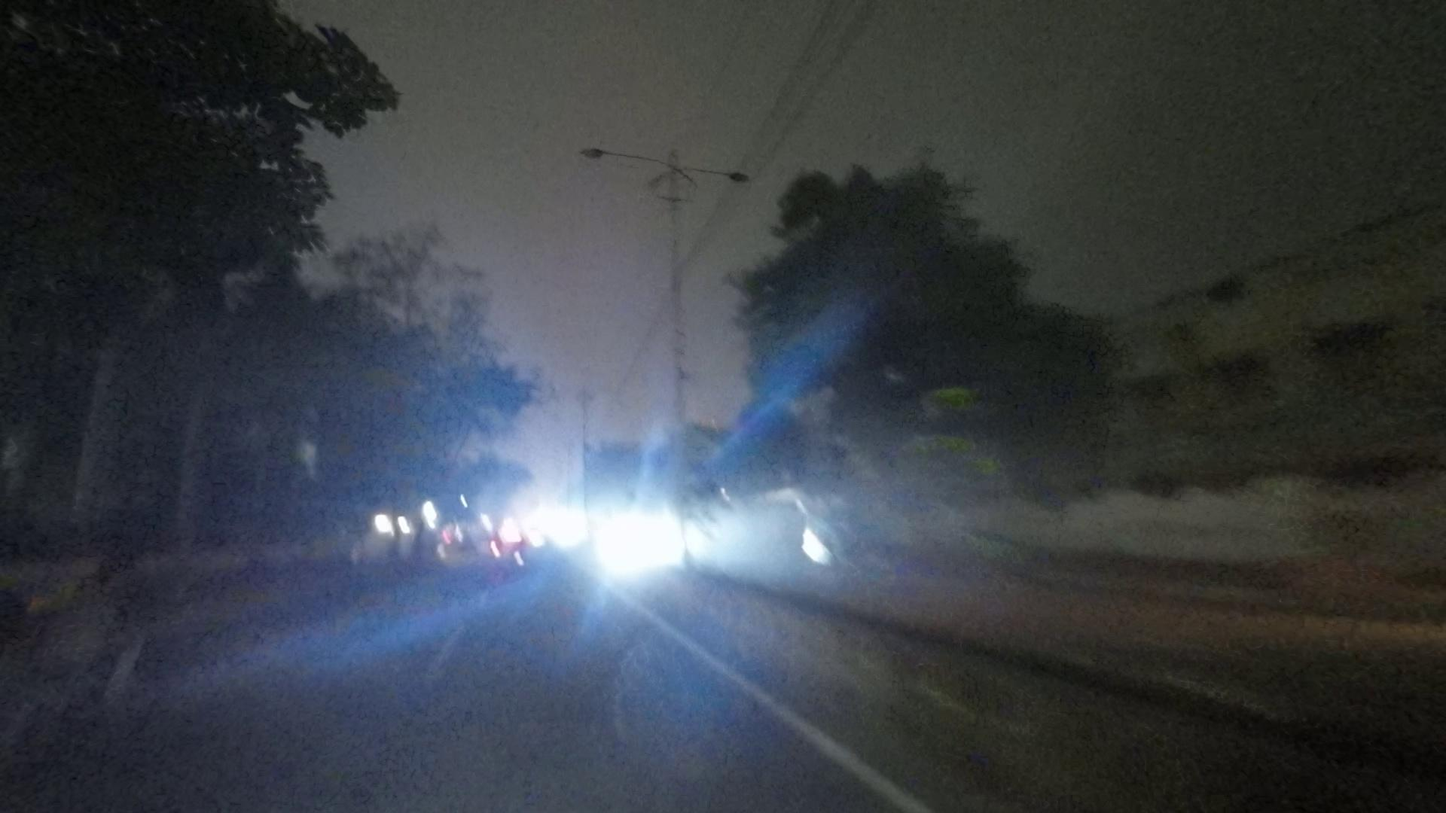streetlight: (580, 145, 670, 168)
